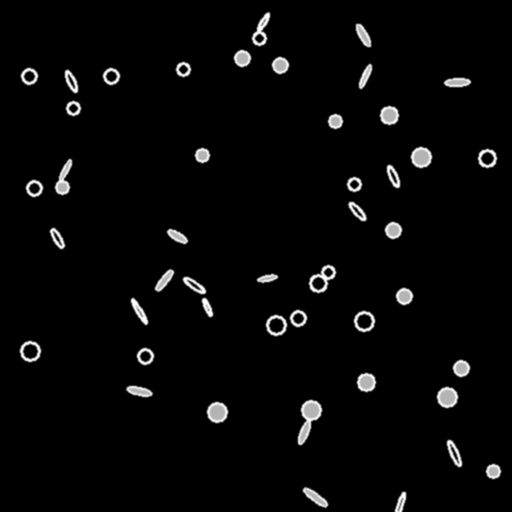pseudomonas: (302, 486, 328, 508), (154, 268, 174, 292), (182, 275, 206, 295), (130, 298, 148, 324), (354, 23, 372, 47), (446, 440, 462, 466), (347, 201, 367, 221), (357, 64, 373, 88), (63, 70, 79, 92), (385, 165, 401, 187), (57, 159, 73, 181), (166, 228, 188, 244), (297, 420, 311, 444), (49, 228, 65, 248), (126, 385, 152, 397), (256, 12, 270, 32), (394, 491, 406, 512), (201, 298, 213, 316), (445, 78, 469, 86), (257, 274, 277, 282)
synechocystis: (208, 403, 226, 421), (355, 312, 373, 330), (267, 316, 285, 334), (438, 388, 456, 406), (412, 148, 430, 166), (302, 401, 320, 419), (21, 342, 39, 360), (381, 107, 397, 123), (358, 374, 374, 390), (479, 150, 495, 166), (310, 275, 326, 291), (397, 289, 411, 303), (138, 349, 152, 363), (22, 69, 36, 83), (454, 361, 468, 375), (104, 69, 118, 83), (273, 58, 287, 72), (291, 311, 305, 325), (235, 51, 249, 65), (386, 223, 400, 237), (27, 181, 41, 195), (253, 32, 265, 44), (196, 149, 208, 161), (329, 115, 341, 127), (487, 465, 499, 477), (177, 63, 189, 75), (67, 102, 79, 114), (56, 181, 68, 193), (348, 178, 360, 190), (322, 266, 334, 278)
